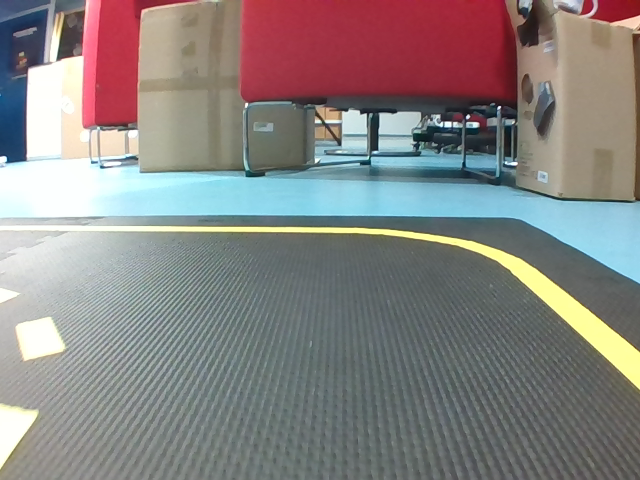30: (1, 134, 21, 154)
stop: (116, 90, 174, 148)
